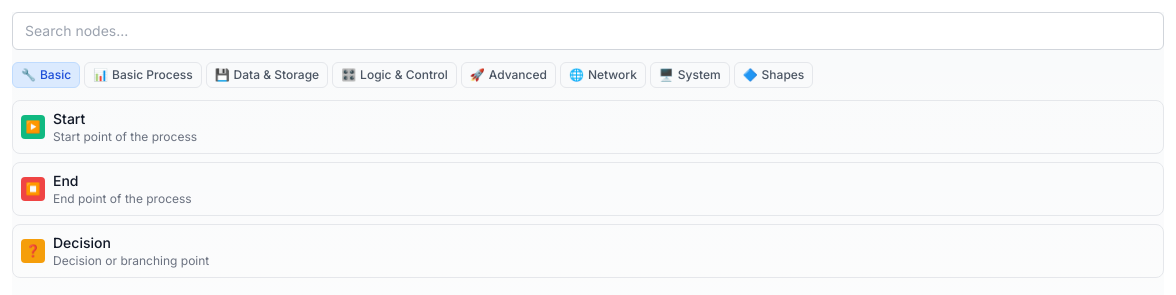
Enhanced NodePalette › filters nodes based on search query
Expected: the text "Start" is shown, [53,110,85,127]
Expected: the text "Decision" is shown, [53,234,111,251]
# Search for 'server'
Type "server" into the field with placeholder "Search nodes...". click: (588, 31)
box: [12,12,1164,50]
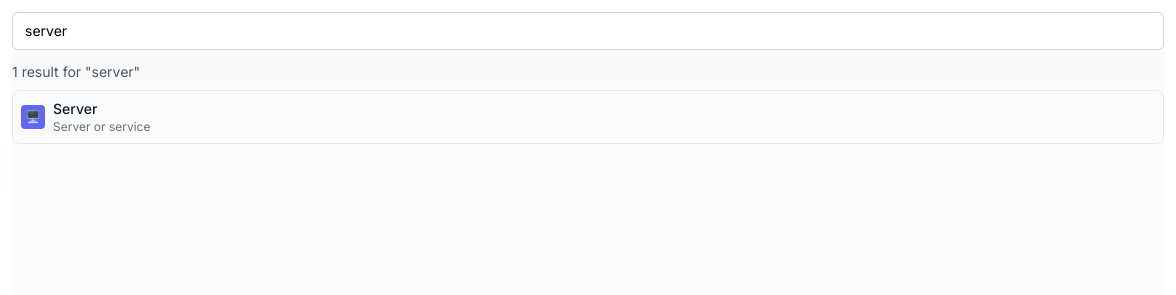
Now the text "1 result for \"server\"" is shown, box [12,63,140,80]
Now the text "Server" is shown, box [53,100,97,117]
